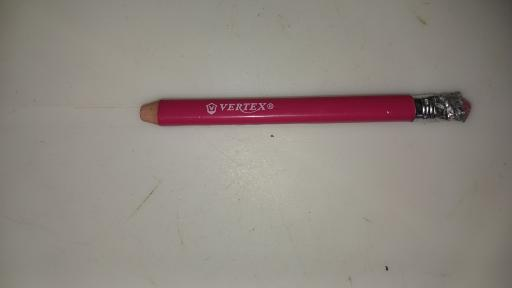Pencil: (139, 95, 474, 125)
